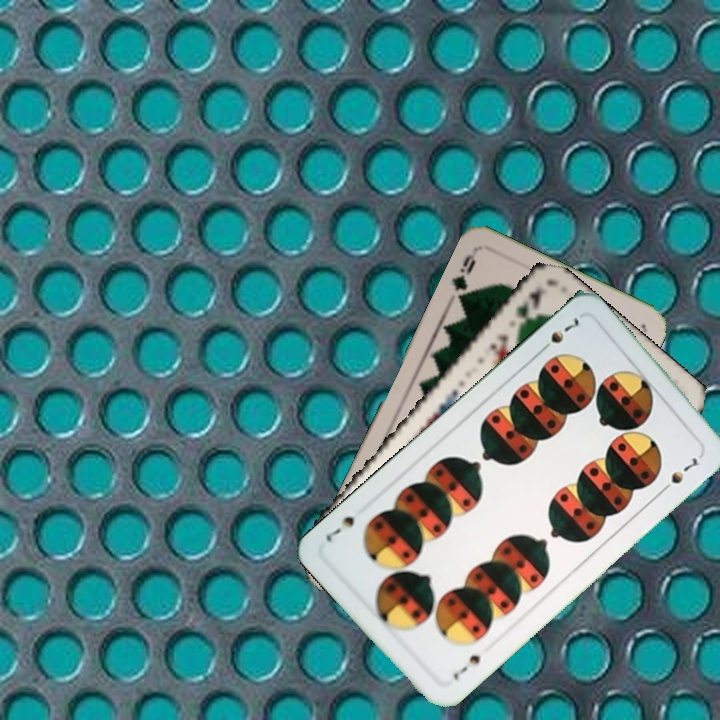G9: (447, 249, 479, 307)
GK: (511, 284, 546, 335)
S7: (535, 313, 586, 356), (449, 650, 485, 683)
